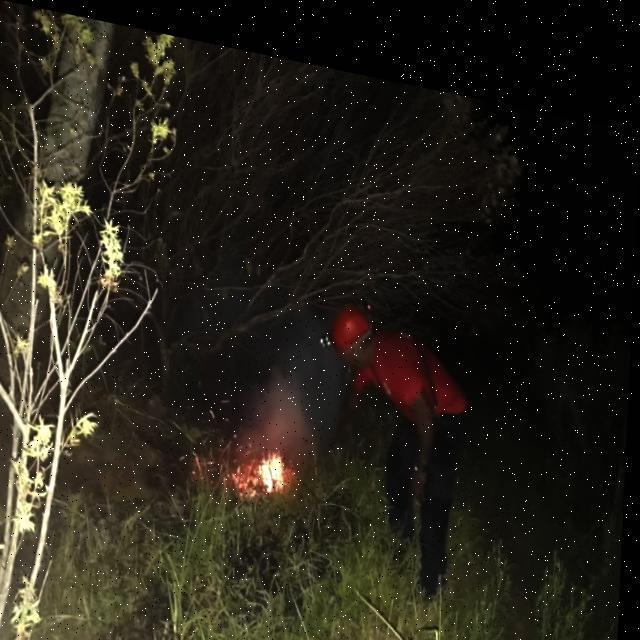Fire: (258, 429, 292, 479)
